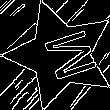M_W: (27, 25, 93, 85)
